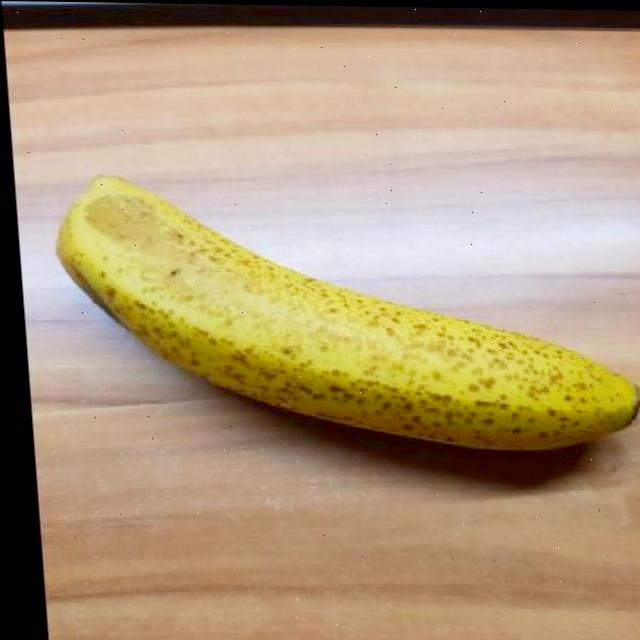banana: (38, 167, 640, 456)
